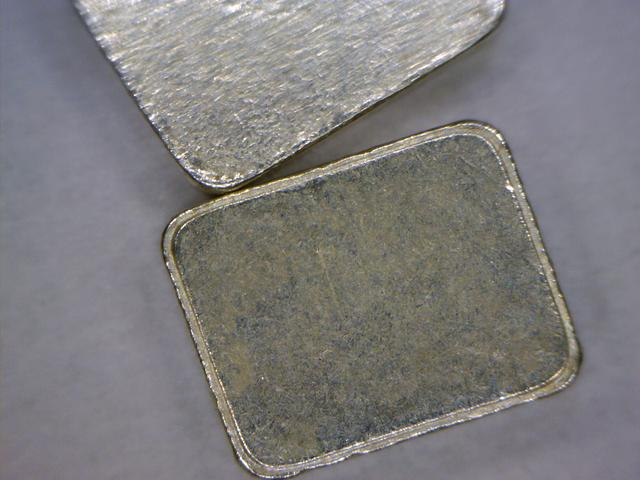nok: (139, 115, 591, 479)
